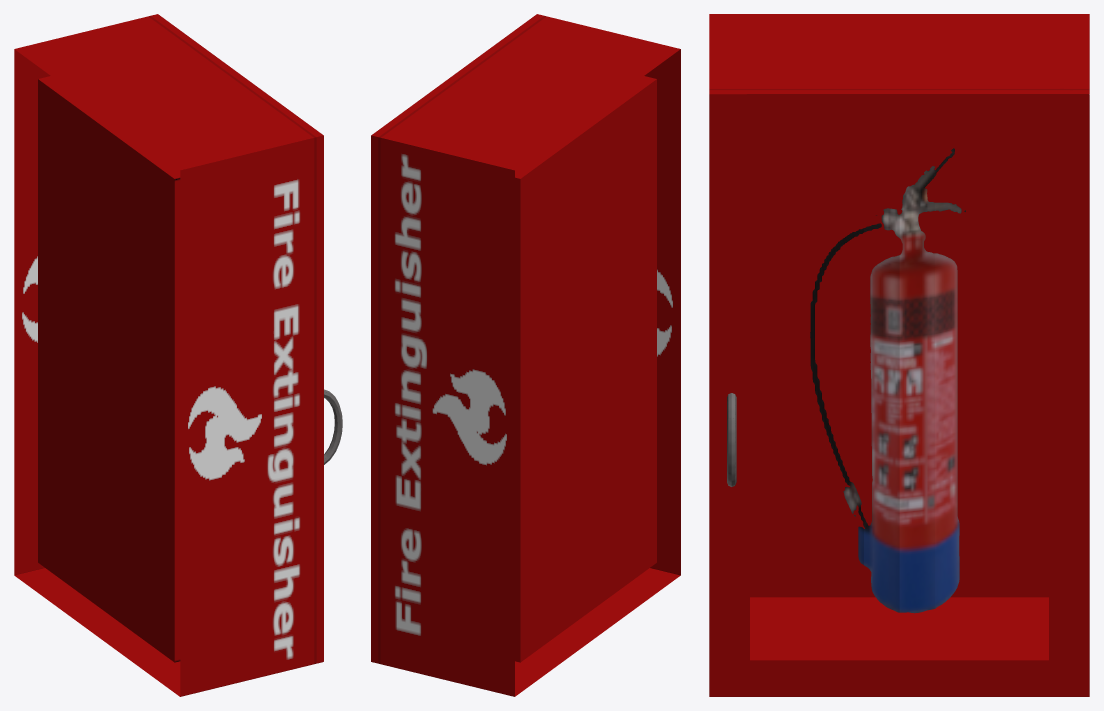
Rendered from FireExtinguisherCase.fbx.
The picture shows the model from 3 angles, left to right: view 1: azimuth 30°, elevation 25°; view 2: azimuth 150°, elevation 25°; view 3: azimuth 270°, elevation 25°; orthographic projection. The views are drawn at different scales.
Parts seen in each view (by area): view 1: Case; view 2: Case; view 3: Case, Transparent.
Boxes of the visible parts, <box> form: Case: <box>14,14,342,696</box>; Case: <box>371,14,680,696</box>; Case: <box>709,14,1089,696</box>; Transparent: <box>810,148,965,613</box>.
Bounding box in the file's own units: 43.07 × 126 × 72.
